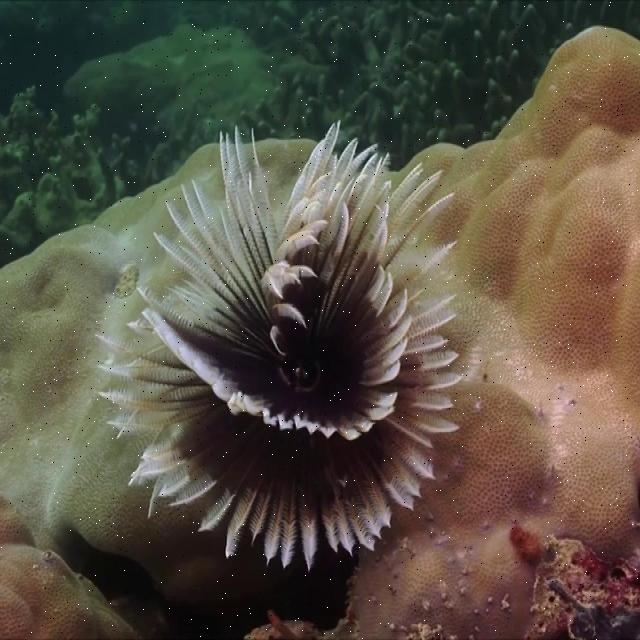reefs: (0, 28, 639, 639), (93, 121, 464, 573), (240, 0, 639, 169), (0, 85, 174, 264)
